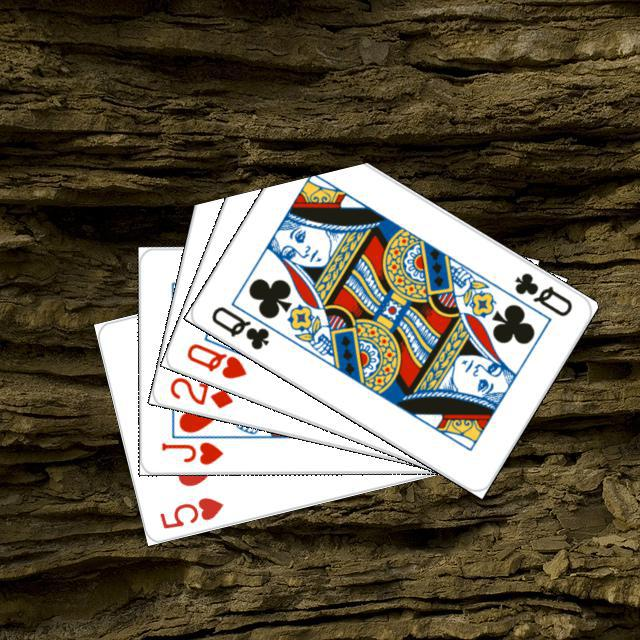2d: (165, 372, 235, 411)
5h: (154, 492, 225, 531)
Jh: (156, 437, 225, 466)
Qc: (206, 295, 284, 352), (509, 267, 575, 319)
Qh: (181, 338, 249, 381)
